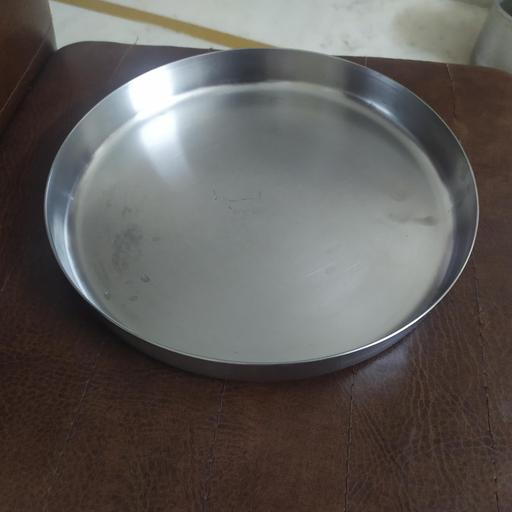plate: (33, 47, 481, 385)
